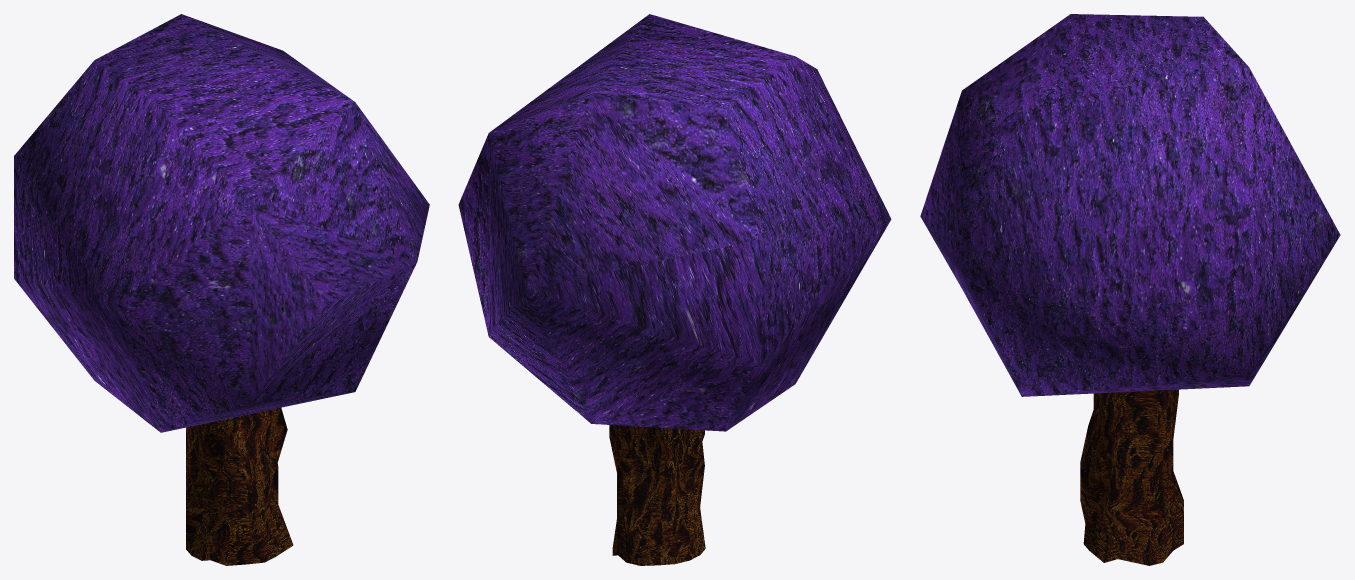
Rendered from tree_redesigned.FBX.
The picture shows the model from 3 angles, left to right: view 1: azimuth 30°, elevation 25°; view 2: azimuth 150°, elevation 25°; view 3: azimuth 270°, elevation 25°; orthographic projection. The views are drawn at different scales.
Visible parts, largest first — view 1: GeoSphere001, Cylinder002; view 2: GeoSphere001, Cylinder002; view 3: GeoSphere001, Cylinder002.
Part boxes in pixels (x1,y1,x2,y2): GeoSphere001: [14, 14, 429, 432]; Cylinder002: [186, 407, 293, 565]; GeoSphere001: [458, 14, 891, 431]; Cylinder002: [609, 425, 705, 565]; GeoSphere001: [920, 14, 1340, 396]; Cylinder002: [1080, 389, 1183, 565].
Size of the model in its own units: 0.0168 by 0.0183 by 0.0233.
2 materials, 2 textured.
